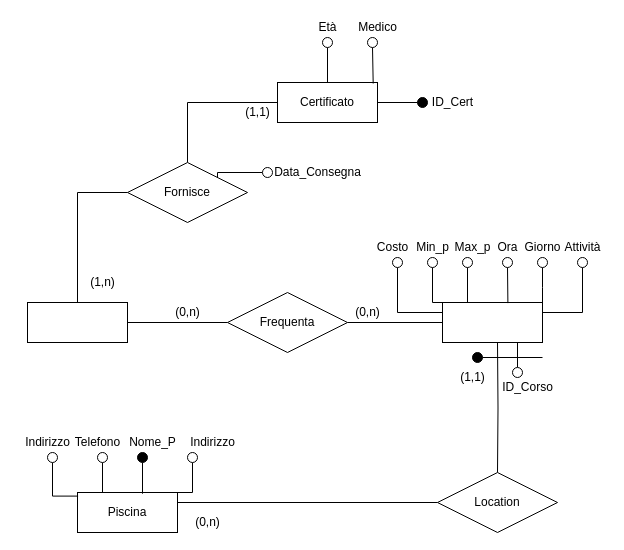
The diagram is 624 pixels wide and 550 high, and some of its shapes have lost their labels. The box of each missing label's shape, as (x1, y1, x2, y2) in pixels:
Corso: (442, 302, 542, 342)
Iscritto ai Corsi: (26, 302, 128, 342)
